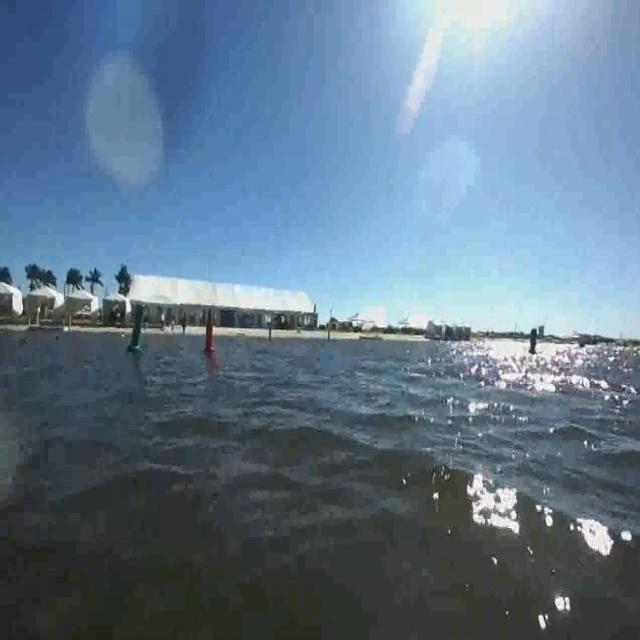green-column-buoy: (128, 304, 148, 354)
red-column-buoy: (203, 314, 217, 356)
